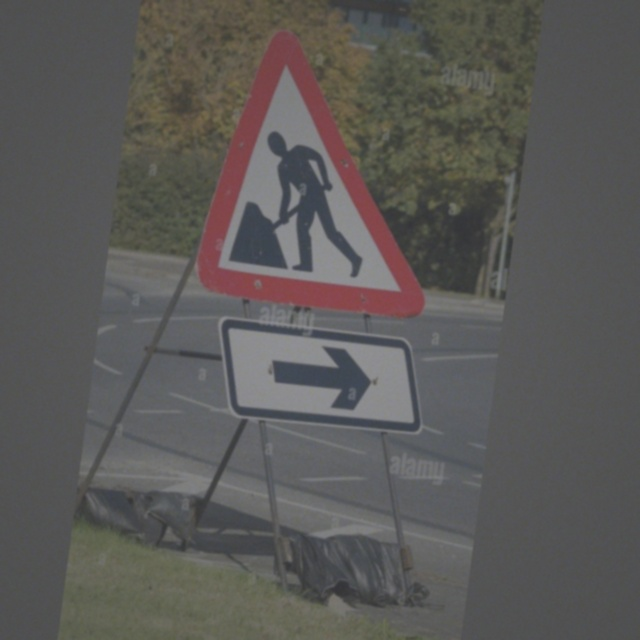Men_at_Work: (168, 22, 466, 323)
